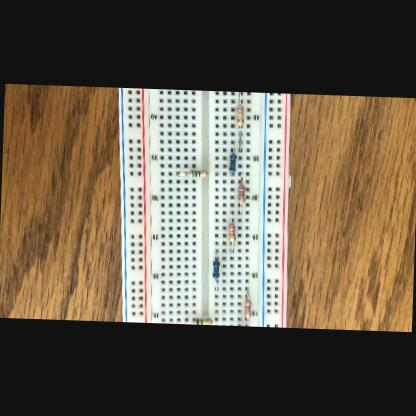breadboard: (108, 88, 294, 328)
resistor: (234, 107, 244, 126), (226, 224, 236, 242), (188, 169, 206, 178), (236, 184, 244, 204), (211, 260, 219, 280), (192, 317, 212, 325), (244, 300, 251, 318), (228, 154, 235, 172)
wire: (238, 126, 242, 152), (238, 173, 242, 185), (229, 210, 232, 224), (207, 172, 216, 176), (214, 280, 217, 291), (214, 249, 217, 260), (183, 320, 191, 324), (237, 318, 241, 326), (238, 92, 240, 106), (246, 288, 248, 300), (176, 174, 186, 176), (239, 204, 241, 214), (230, 243, 232, 253), (212, 320, 218, 323), (244, 318, 248, 321), (230, 174, 232, 178), (232, 147, 233, 154)
